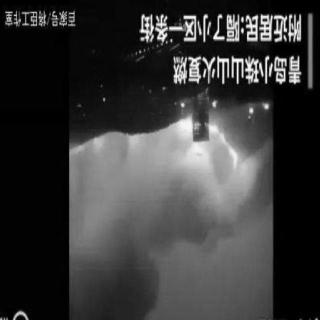Fire: (176, 99, 258, 182)
Smoke: (78, 144, 256, 294)
